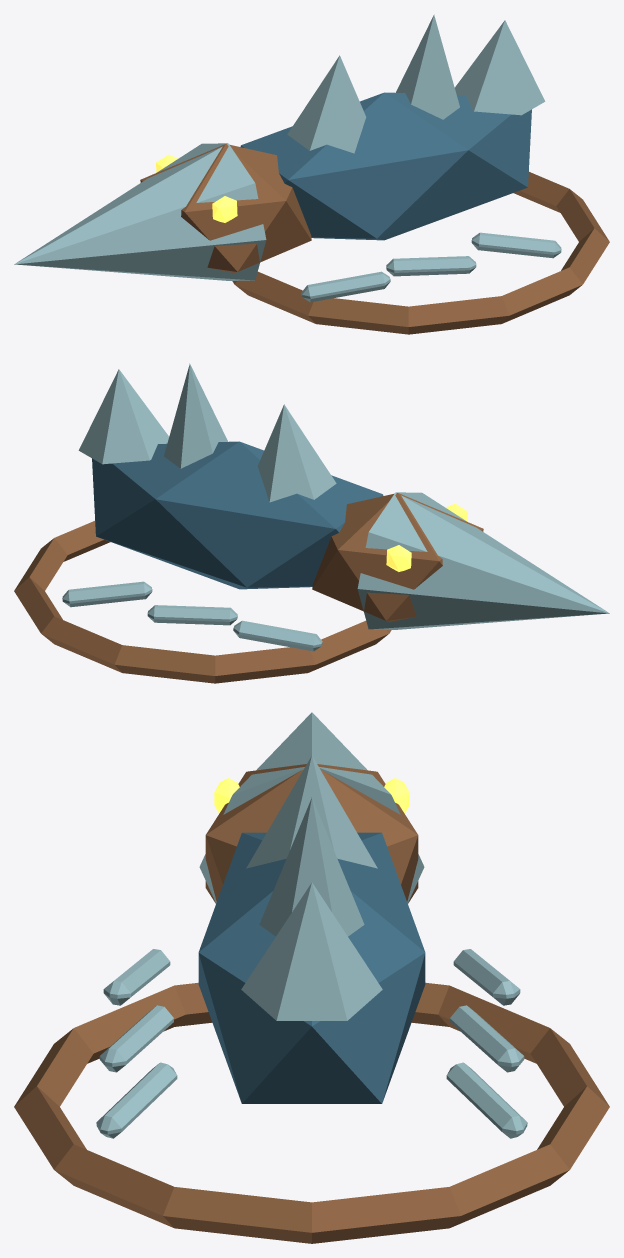
The model's file is enemy_burrow_stalker.glb.
3 views of the same model, one above another, from view 1: azimuth 30°, elevation 25°; view 2: azimuth 150°, elevation 25°; view 3: azimuth 270°, elevation 25° (orthographic). The views are drawn at different scales.
Visible parts, largest first — view 1: enemy_burrow_stalker; view 2: enemy_burrow_stalker; view 3: enemy_burrow_stalker.
Boxes of the visible parts, x1,y1,x2,y2 form: enemy_burrow_stalker: [14, 14, 609, 334]; enemy_burrow_stalker: [14, 363, 609, 683]; enemy_burrow_stalker: [14, 712, 609, 1243].
Bounding box in the file's own units: 2.34 × 0.9238 × 1.43.
